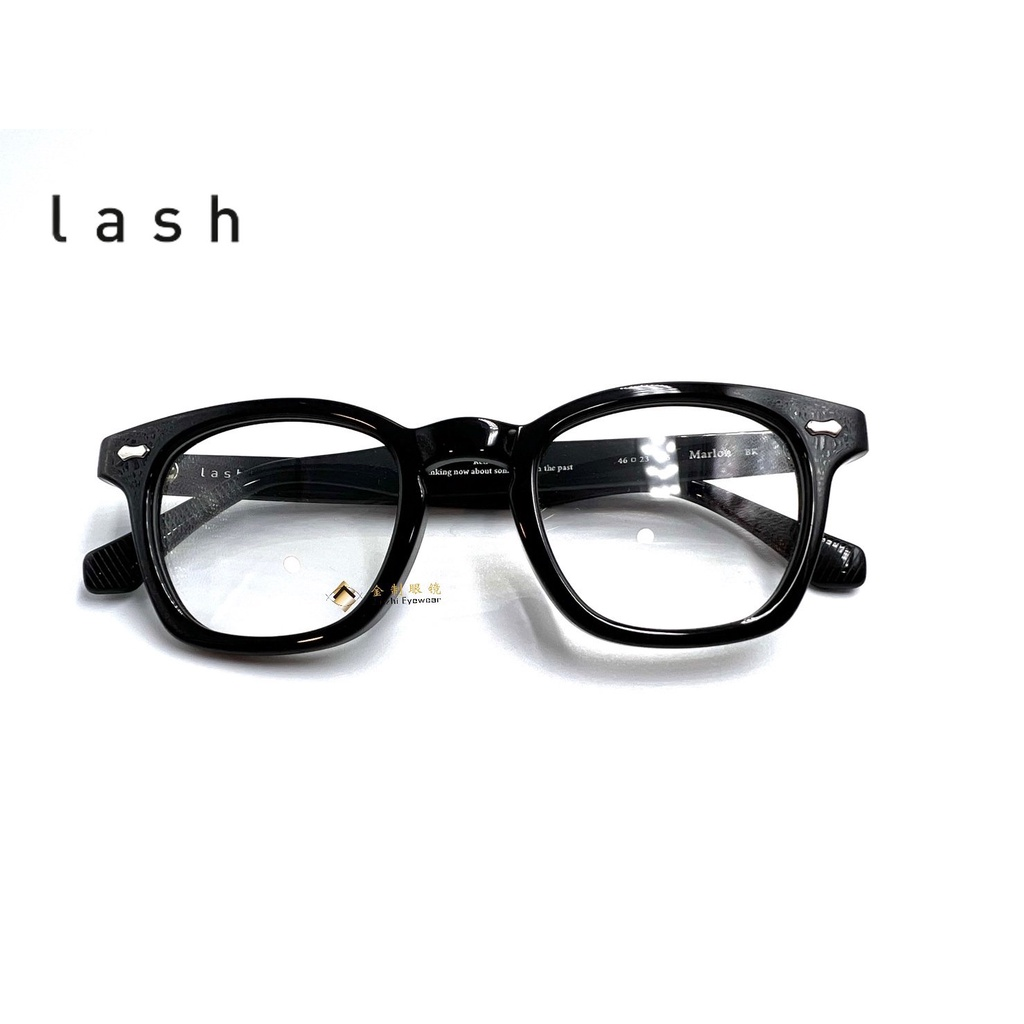glass: (69, 370, 900, 686)
